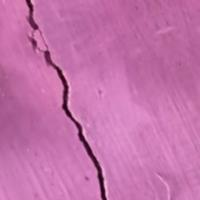crack: (25, 0, 118, 199)
